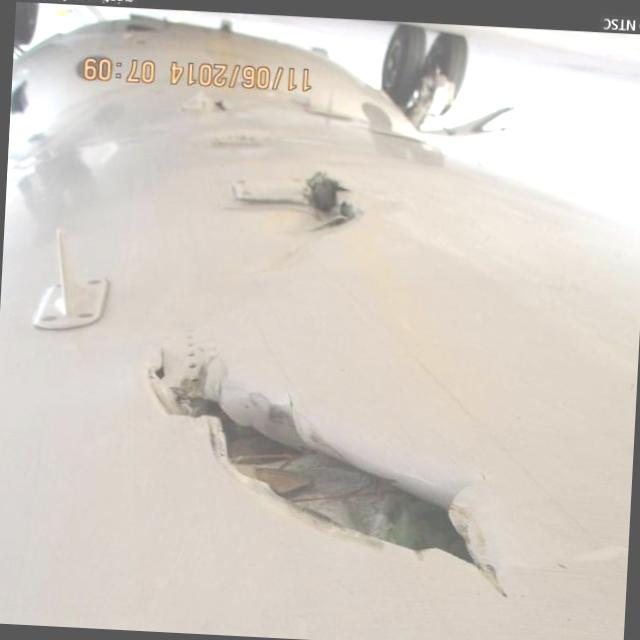crack: (130, 326, 523, 598)
